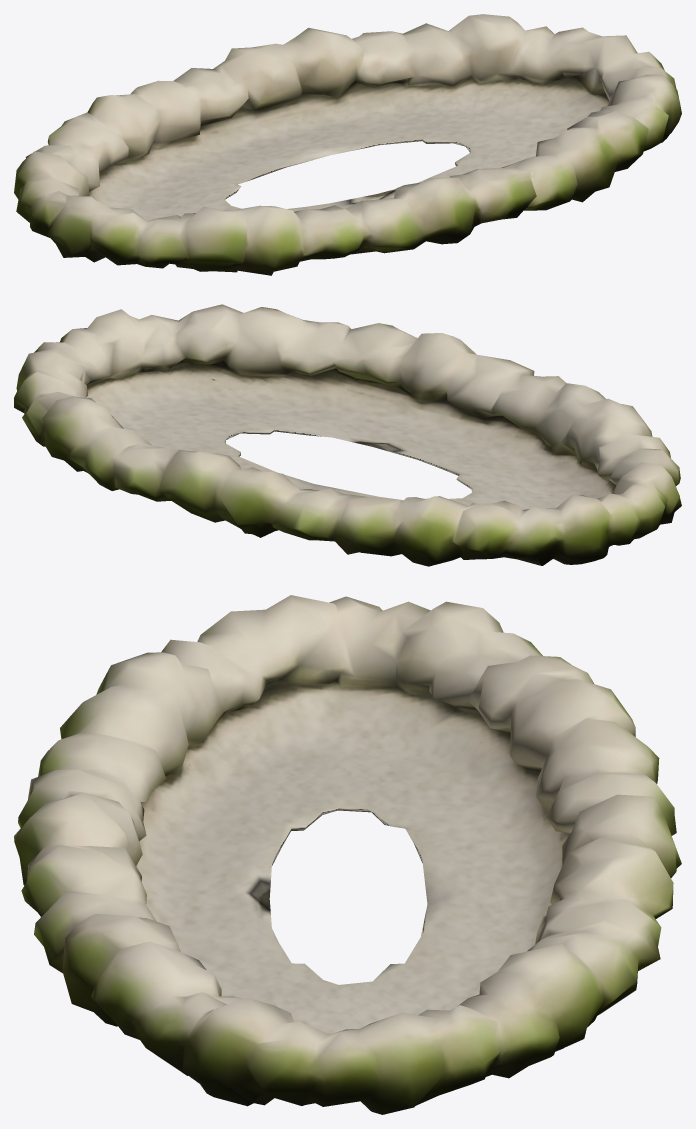
The model's file is stone-platform.glb.
3 views of the same model, one above another, from view 1: azimuth 30°, elevation 25°; view 2: azimuth 150°, elevation 25°; view 3: azimuth 270°, elevation 25° (orthographic). The views are drawn at different scales.
Visible parts, largest first — view 1: tripo_node_f992635f-1dc8-4e5d-a43c-b2b005690c8a; view 2: tripo_node_f992635f-1dc8-4e5d-a43c-b2b005690c8a; view 3: tripo_node_f992635f-1dc8-4e5d-a43c-b2b005690c8a.
Part boxes in pixels (x1,y1,x2,y2): tripo_node_f992635f-1dc8-4e5d-a43c-b2b005690c8a: (14, 14, 681, 275); tripo_node_f992635f-1dc8-4e5d-a43c-b2b005690c8a: (14, 304, 681, 566); tripo_node_f992635f-1dc8-4e5d-a43c-b2b005690c8a: (14, 595, 681, 1114).
Size of the model in its own units: 0.9795 by 0.1068 by 0.5927.
Materials: 1 (1 with a texture image).
